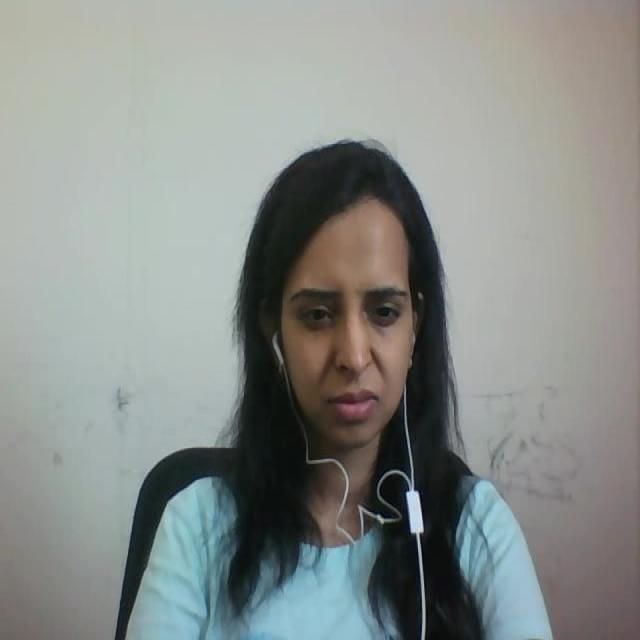Engaged: (226, 126, 465, 453)
